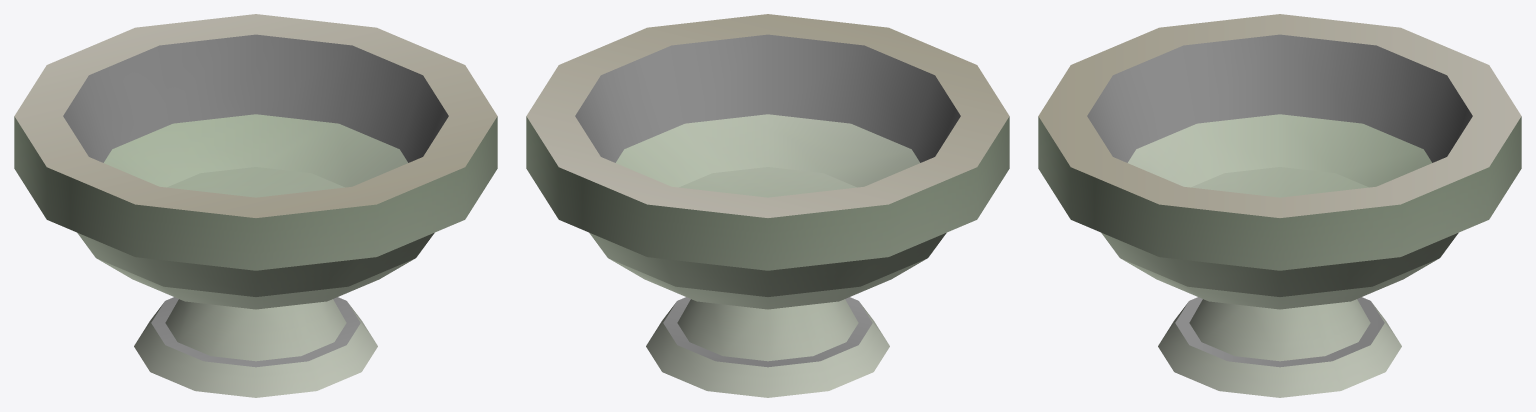
File: PROP_008_WaterFontain.fbx
3 renders of one model, left to right at view 1: azimuth 30°, elevation 25°; view 2: azimuth 150°, elevation 25°; view 3: azimuth 270°, elevation 25°, orthographic.
Parts seen in each view (by area): view 1: PROP_008_WaterFontain; view 2: PROP_008_WaterFontain; view 3: PROP_008_WaterFontain.
Part boxes in pixels (x1,y1,x2,y2): PROP_008_WaterFontain: (14, 14, 497, 397); PROP_008_WaterFontain: (526, 14, 1009, 397); PROP_008_WaterFontain: (1038, 14, 1521, 397).
Bounding box in the file's own units: 17.92 × 9.42 × 17.92.
